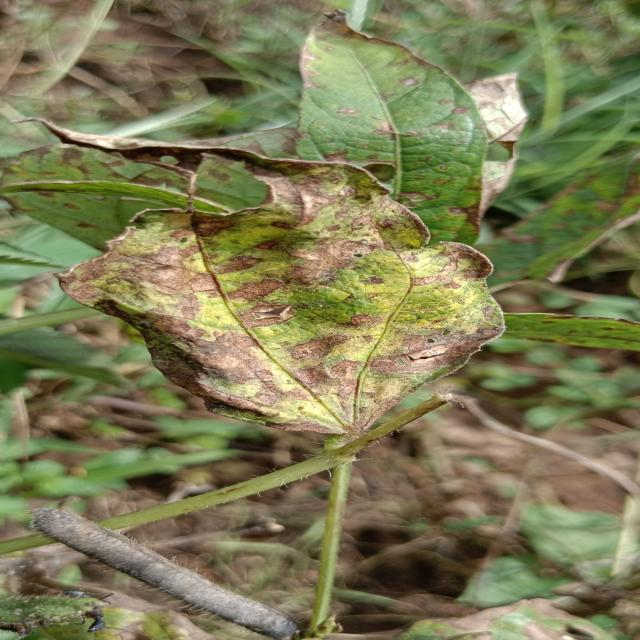Black gram_leaf spot: (91, 160, 502, 436)
